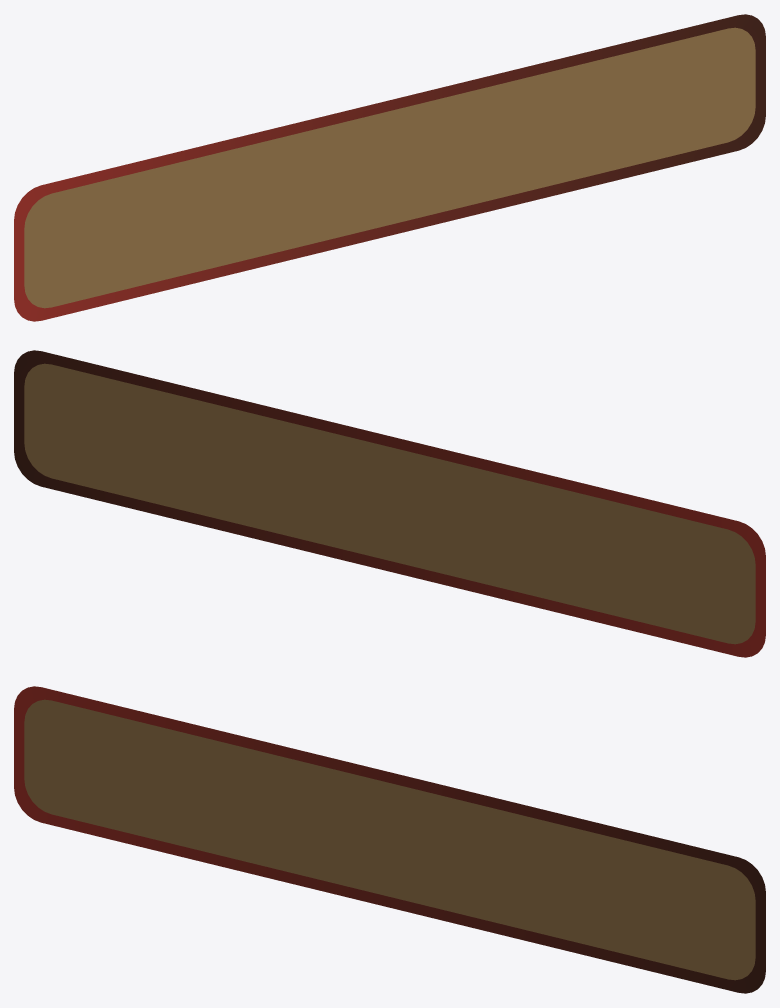
The model's file is SM_Bar_2.fbx.
3 renders of one model, top to bottom at view 1: azimuth 30°, elevation 25°; view 2: azimuth 150°, elevation 25°; view 3: azimuth 330°, elevation 25°, orthographic.
Visible parts, largest first — view 1: SM_Bar_2; view 2: SM_Bar_2; view 3: SM_Bar_2.
Boxes of the visible parts, x1,y1,x2,y2 form: SM_Bar_2: [14, 14, 765, 321]; SM_Bar_2: [14, 350, 765, 657]; SM_Bar_2: [14, 686, 765, 993].
Bounding box in the file's own units: 53 × 9.13 × 0.
2 materials, 1 textured.
